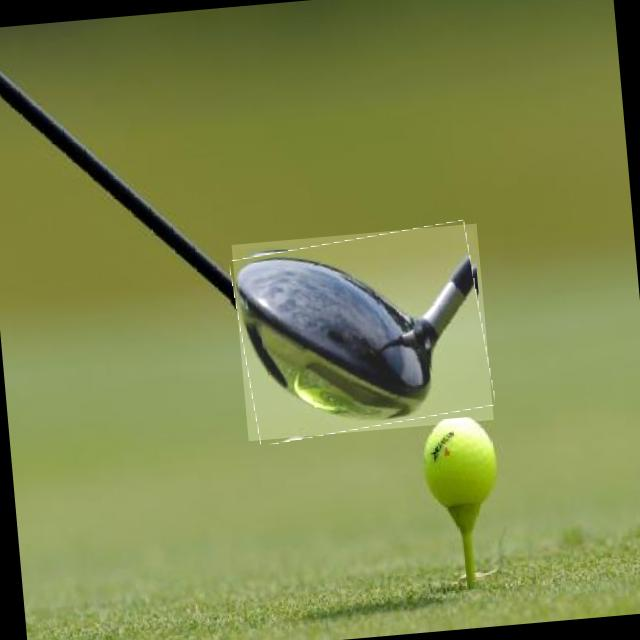club head: (231, 223, 493, 441)
